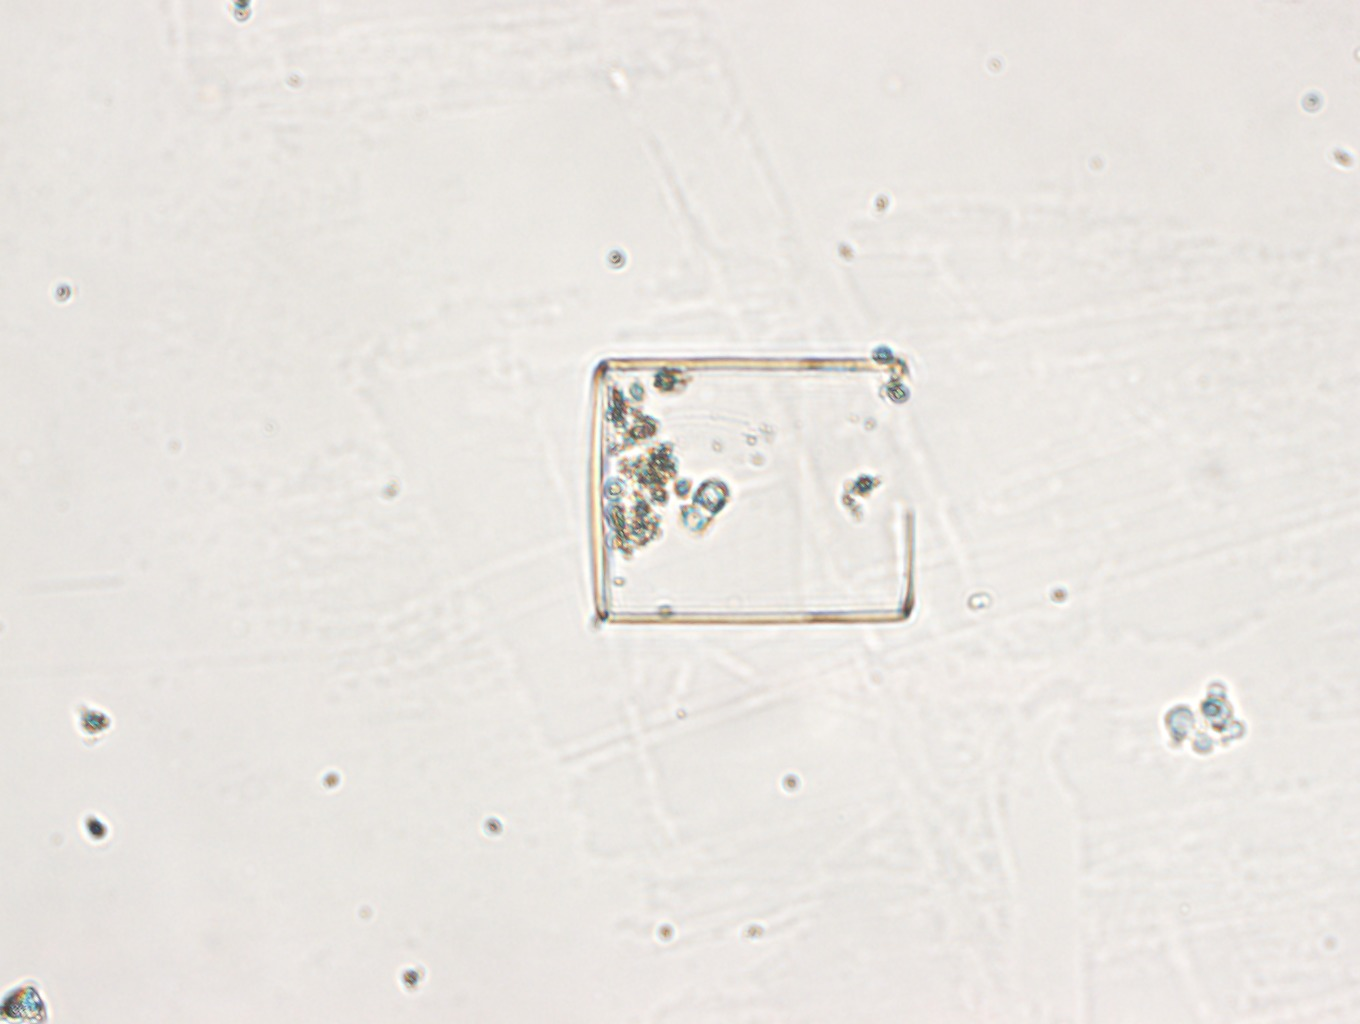guinardia flaccida: (586, 344, 924, 627)
